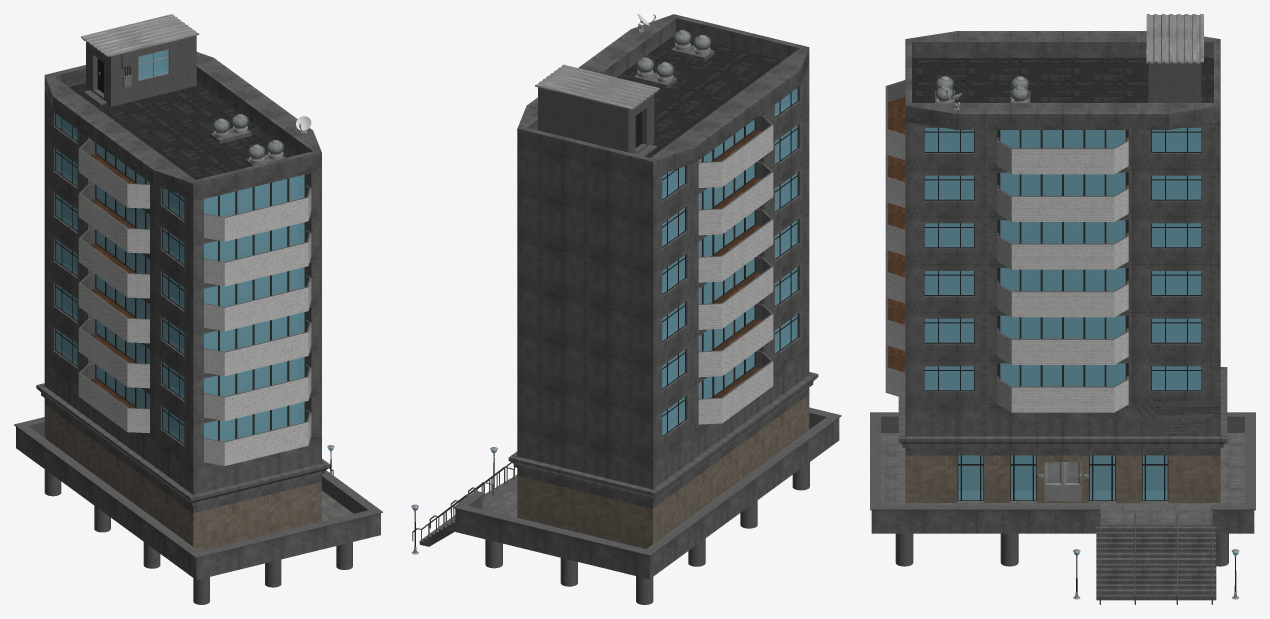
Rendered from Building_Medium_Residential3.obj.
3 renders of one model, left to right at view 1: azimuth 30°, elevation 25°; view 2: azimuth 150°, elevation 25°; view 3: azimuth 270°, elevation 25°, orthographic. The views are drawn at different scales.
Parts seen in each view (by area): view 1: Building_Medium_Residential3_Building_Medium_Residential3_Mesh.0; view 2: Building_Medium_Residential3_Building_Medium_Residential3_Mesh.0; view 3: Building_Medium_Residential3_Building_Medium_Residential3_Mesh.0.
Part boxes in pixels (x1,y1,x2,y2): Building_Medium_Residential3_Building_Medium_Residential3_Mesh.0: [14, 14, 382, 604]; Building_Medium_Residential3_Building_Medium_Residential3_Mesh.0: [411, 14, 841, 604]; Building_Medium_Residential3_Building_Medium_Residential3_Mesh.0: [870, 14, 1255, 604].
Size of the model in its own units: 17.36 by 30.55 by 22.02.
Materials: 13 (11 with a texture image).
